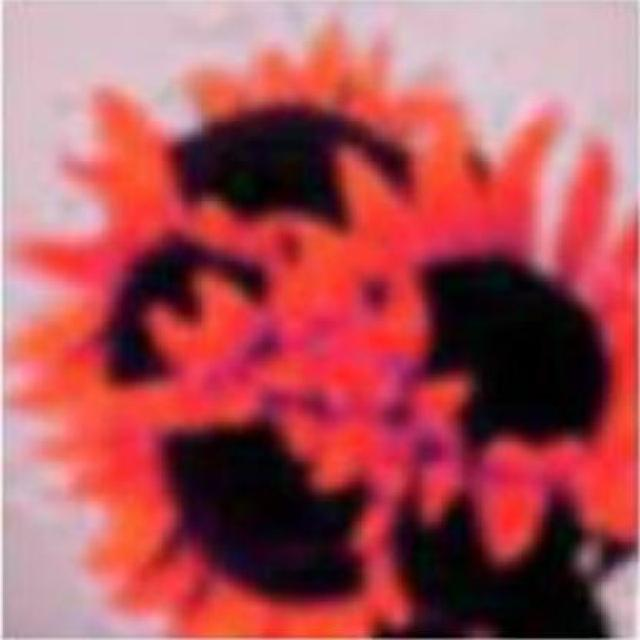sunflower: (351, 96, 638, 578), (69, 3, 508, 238), (39, 368, 415, 638), (0, 216, 290, 399)
